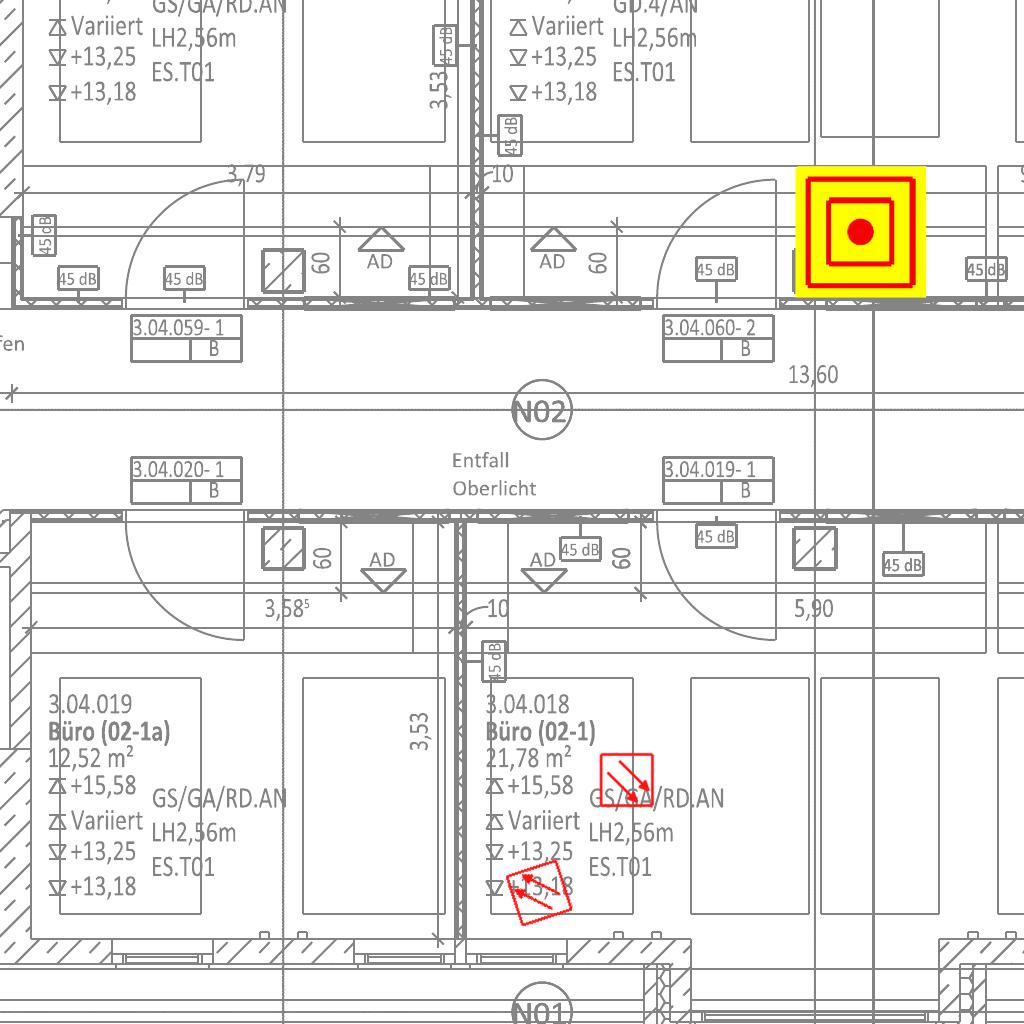NAM-Nichtautomatischer_Melder: (795, 166, 927, 298)
RMO_Rauchmelder_optischer: (503, 857, 575, 929), (599, 752, 655, 808)
